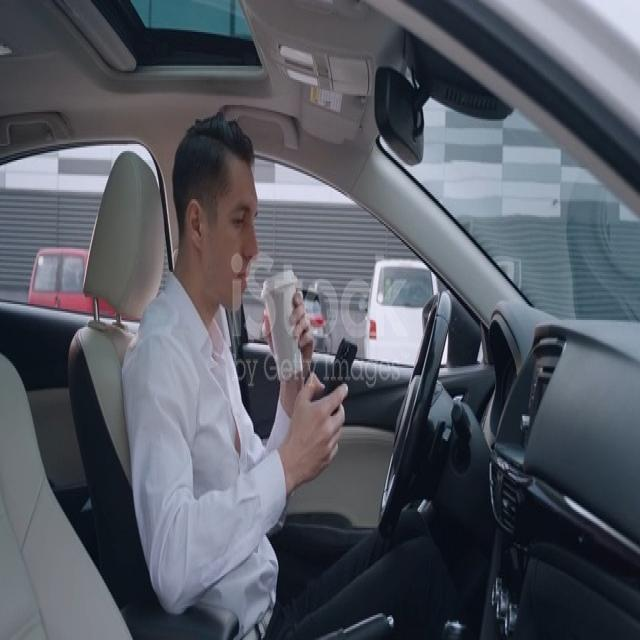Seatbelt: (167, 111, 328, 375)
